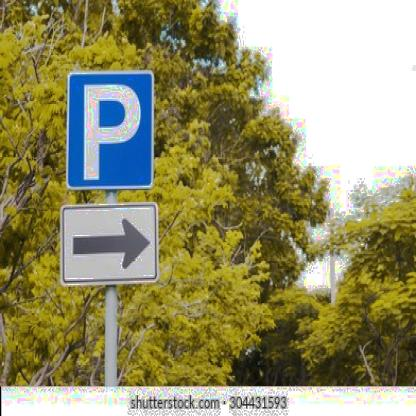Parking: (68, 66, 150, 183)
